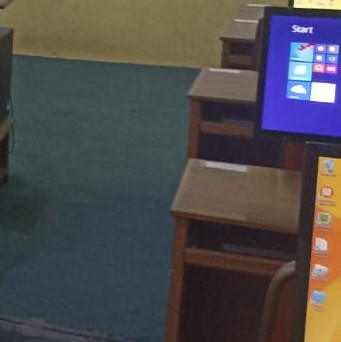monitor: (253, 7, 340, 143), (288, 142, 340, 337)
